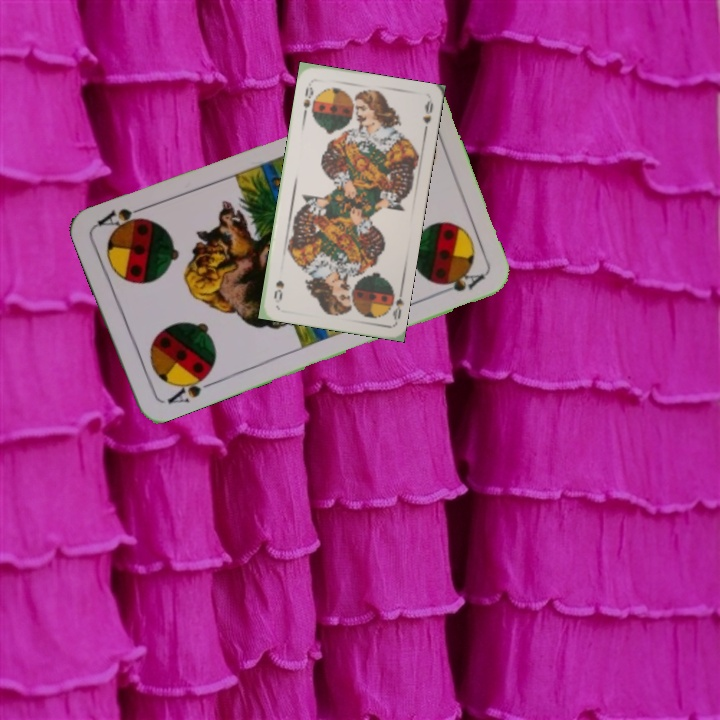SA: (163, 368, 216, 406)
SO: (385, 283, 406, 323), (299, 78, 316, 119)
